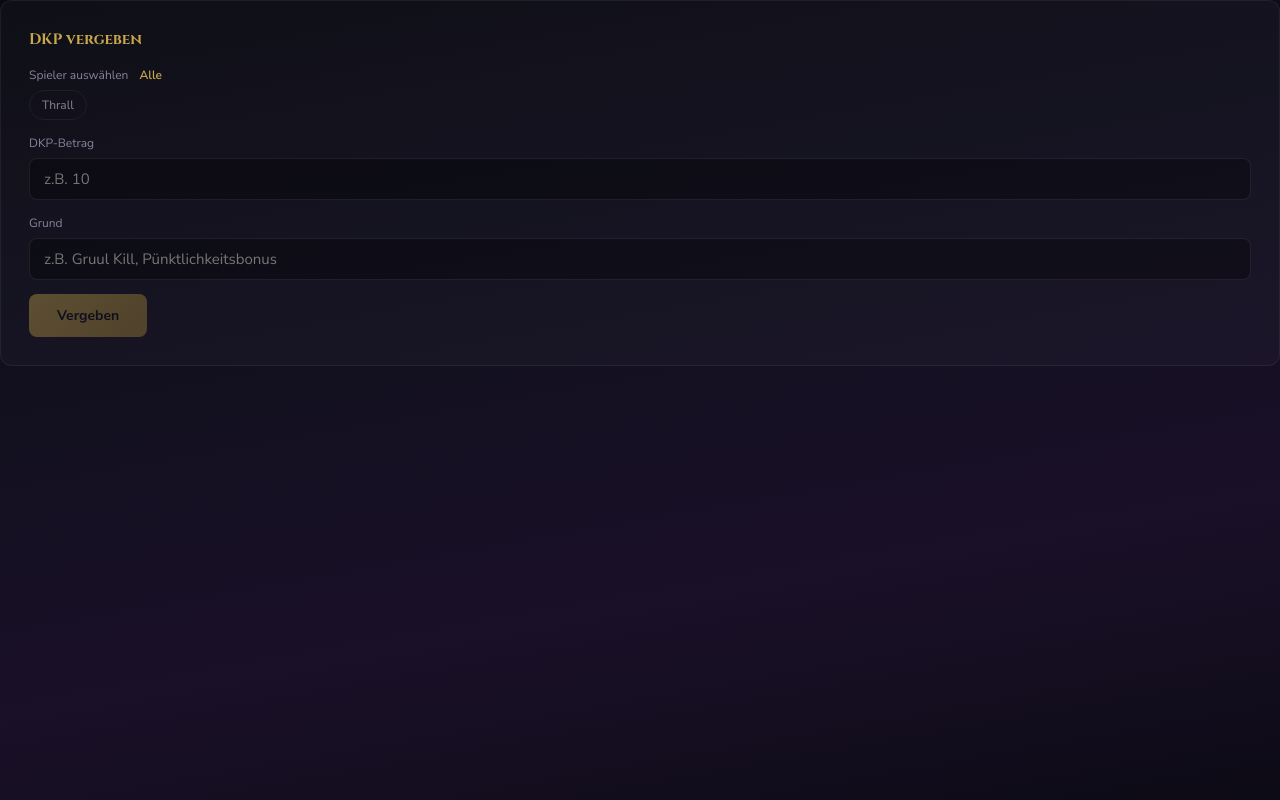
Test: DkpAwardForm › shows preview when players and amount are set
// Select player
Click the text with class "dkp-pchip" at (58, 105), box [29,90,87,120]
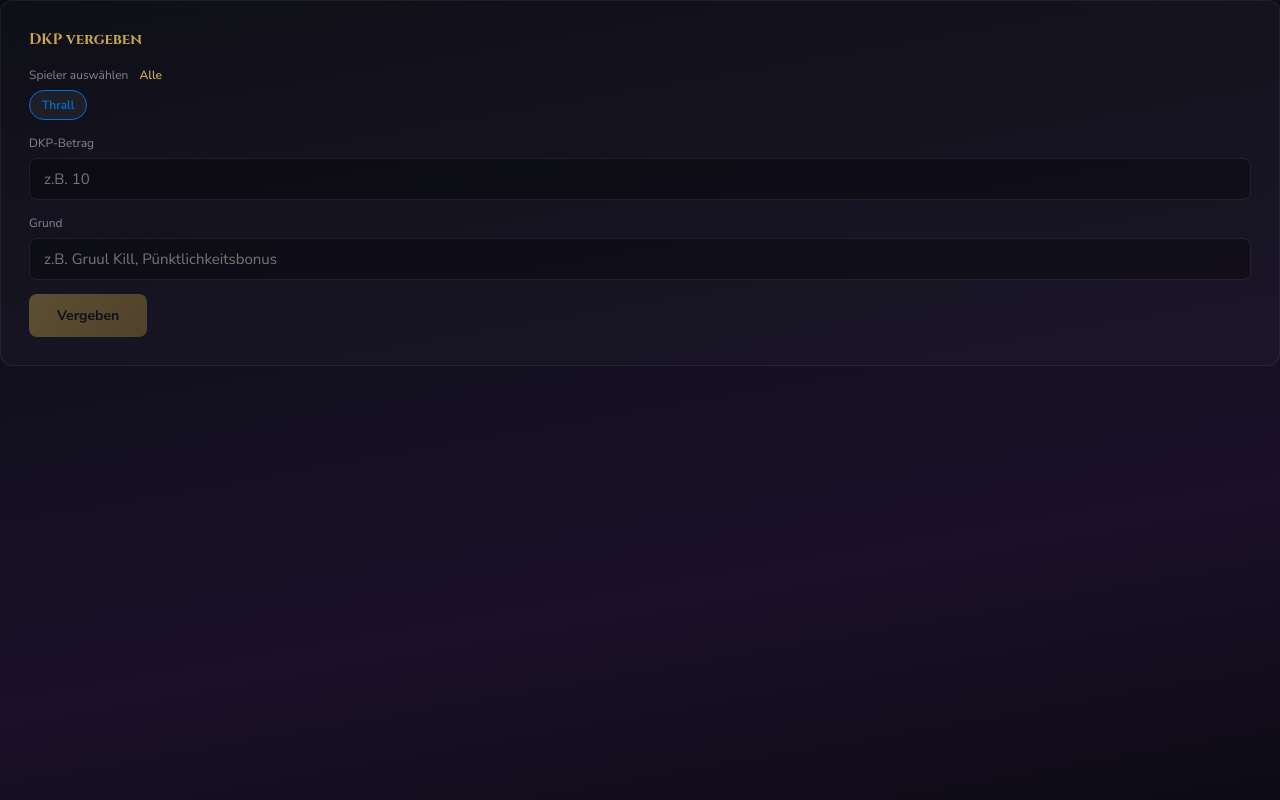
// Set amount
Type "10" into the number field with id "dkp-award-amount" at (640, 179), box [29,158,1251,200]
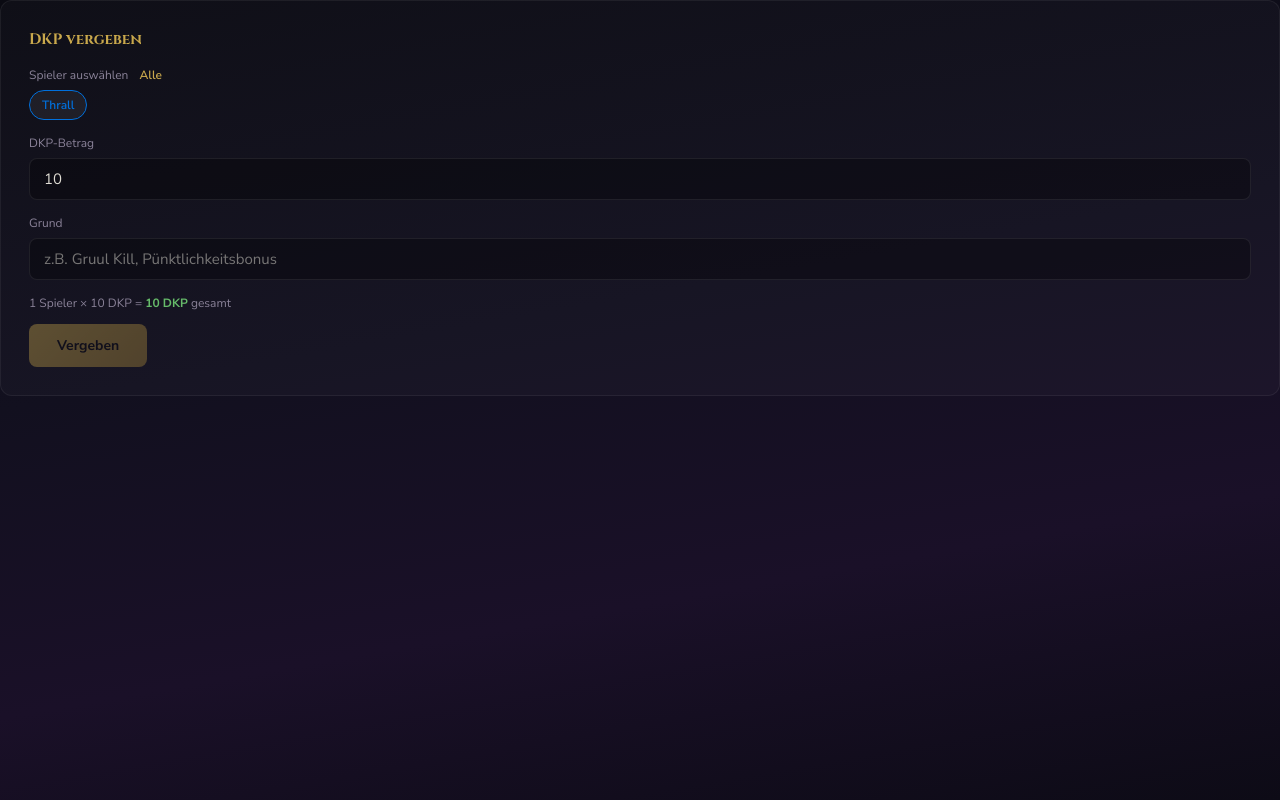
Now the element with id "dkp-award-preview" is shown, box [29,295,231,311]
Now the text "10 DKP" is shown, box [145,295,188,311]
